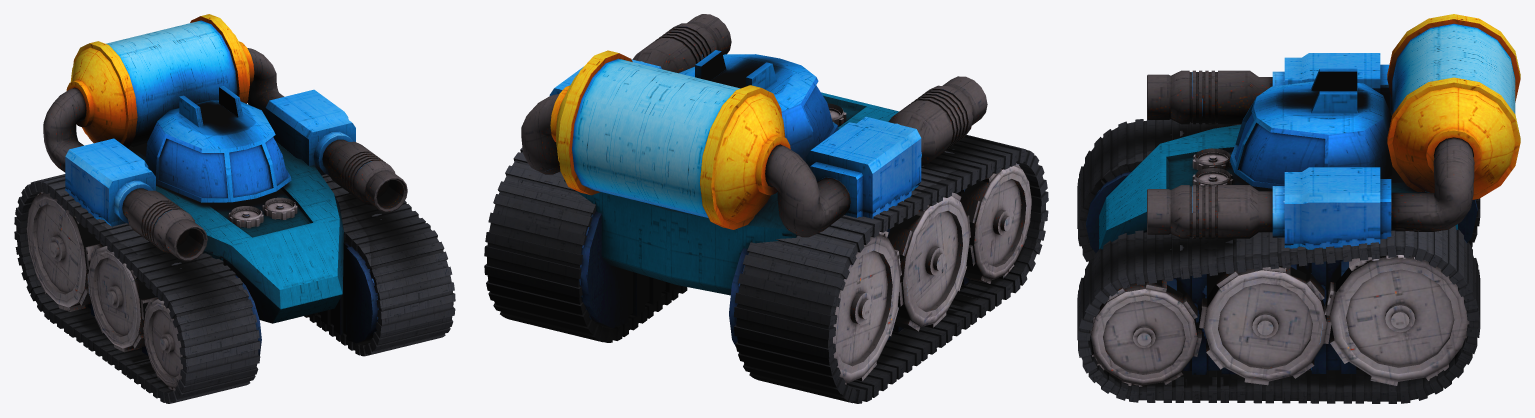
The model's file is PlayerB3.obj.
The picture shows the model from 3 angles, left to right: view 1: azimuth 30°, elevation 25°; view 2: azimuth 150°, elevation 25°; view 3: azimuth 270°, elevation 25°; orthographic projection. The views are drawn at different scales.
Parts seen in each view (by area): view 1: Object001, Box042, Object004, Object003, Object002; view 2: Object001, Box042, Object003, Object004, Object002; view 3: Object001, Box042, Object004, Object003, Object002.
Boxes of the visible parts, x1,y1,x2,y2 form: Object001: (43,14,407,356); Box042: (14,174,455,403); Object004: (26,192,101,311); Object003: (87,244,157,352); Object002: (143,298,182,390); Object001: (521,14,987,352); Box042: (484,135,1048,403); Object003: (888,192,970,331); Object004: (833,231,901,384); Object002: (960,163,1031,283); Object001: (1086,14,1520,374); Box042: (1077,119,1480,403); Object004: (1324,255,1469,385); Object003: (1199,266,1331,385); Object002: (1090,279,1201,386).
Bounding box in the file's own units: 121 × 102 × 147.
2 materials, 2 textured.
